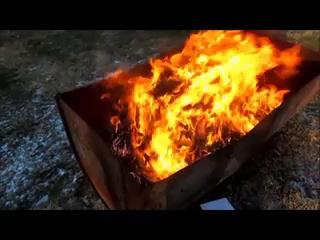Fire: (101, 50, 287, 170)
